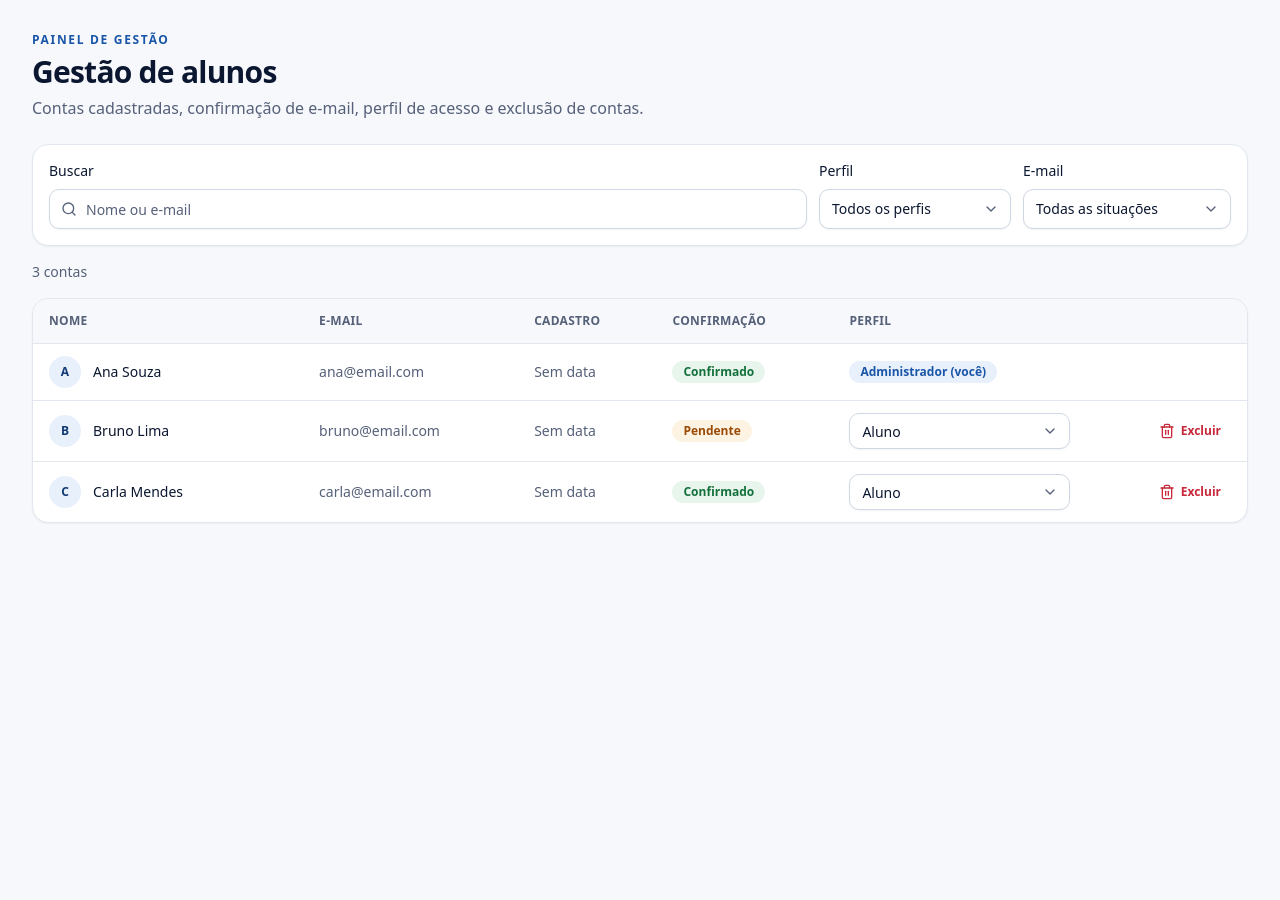
Test case: TelaAdminAlunos › exclui a conta de um aluno depois da confirmacao (HU15)
Step 1. Click the button with aria-label "Excluir conta de Bruno Lima" → (1190, 430), box [1149,414,1231,446]
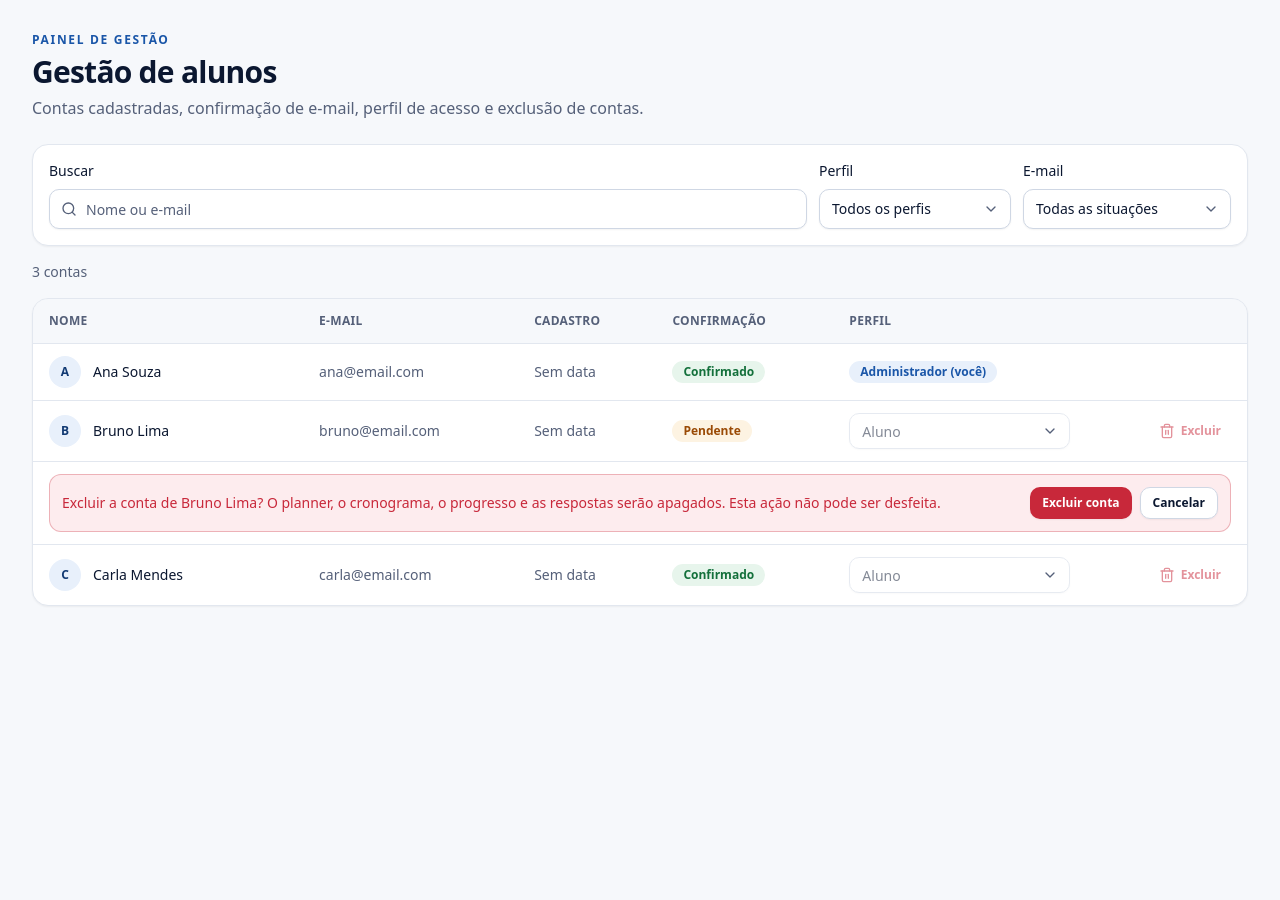
expect the element named "Confirmar exclusão de Bruno Lima" shows "não pode ser desfeita": met, box [257,492,941,512]
Step 2. Click the button "Excluir conta" → (1081, 502), box [1030,486,1132,518]
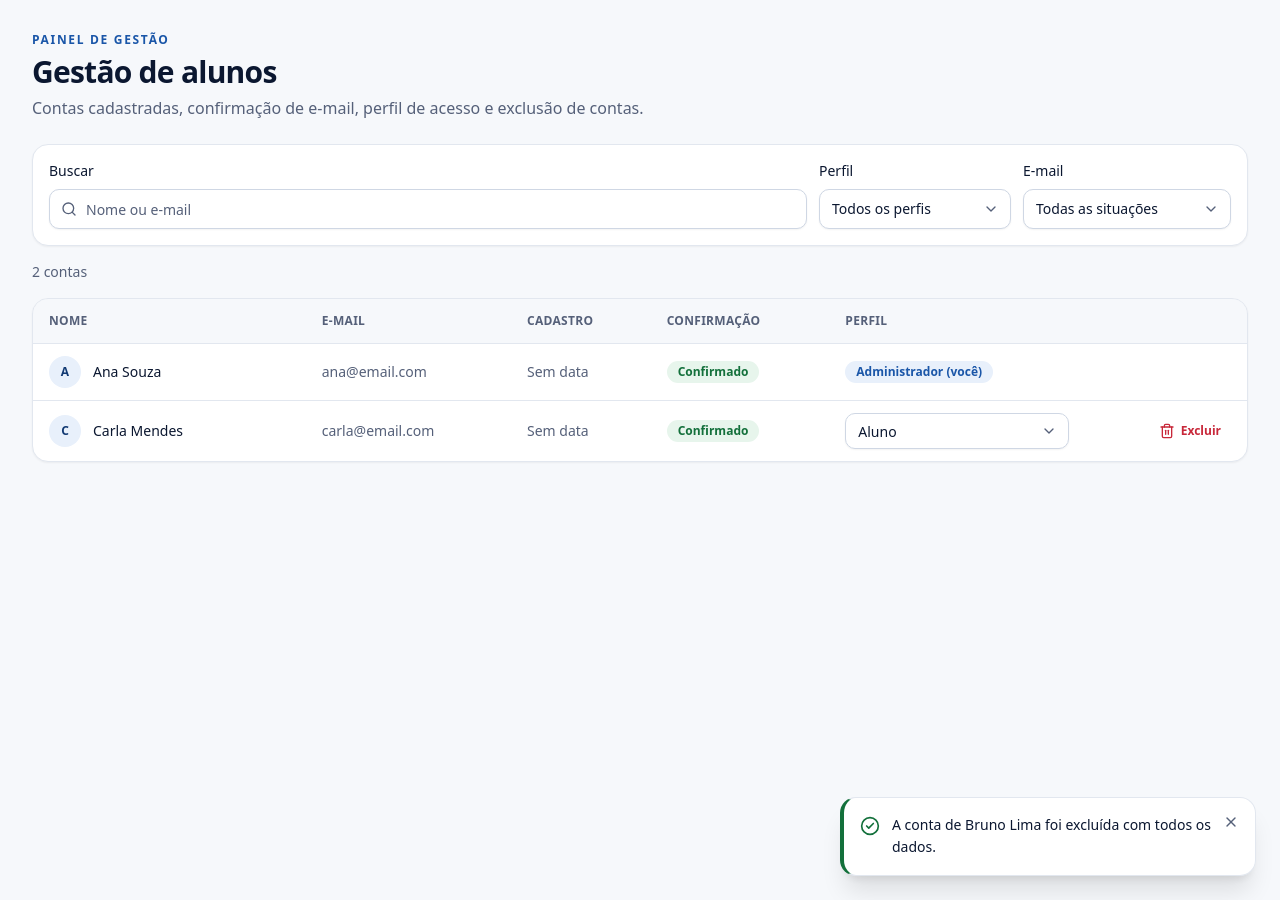
expect the text "A conta de Bruno Lima foi excluída com todos os dados." is shown: met, box [892,814,1211,859]
expect the text "bruno@email.com" is gone: met
expect the text "2 contas" is shown: met, box [32,262,87,281]
